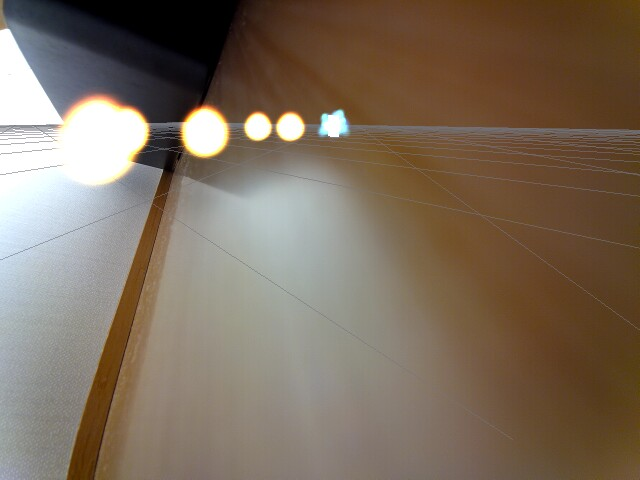firebig: (58, 86, 128, 190)
